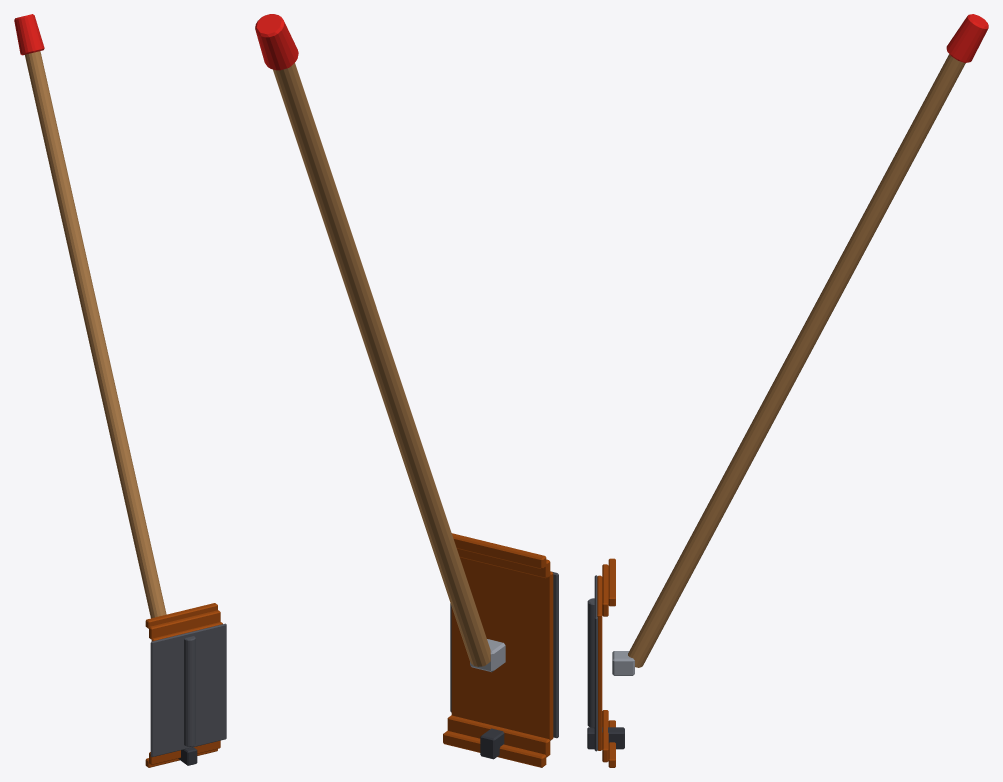
Rendered from Jointer.glb.
The picture shows the model from 3 angles, left to right: view 1: azimuth 30°, elevation 25°; view 2: azimuth 150°, elevation 25°; view 3: azimuth 270°, elevation 25°; orthographic projection. The views are drawn at different scales.
Parts seen in each view (by area): view 1: Blade, Body, Grip; view 2: Blade, Body, Grip; view 3: Body, Blade, Grip.
Part boxes in pixels (bbox=[...]): Blade: bbox=[145, 603, 226, 767]; Body: bbox=[25, 51, 166, 618]; Grip: bbox=[14, 14, 44, 55]; Blade: bbox=[443, 533, 558, 767]; Body: bbox=[273, 63, 505, 672]; Grip: bbox=[255, 14, 298, 70]; Body: bbox=[612, 54, 965, 675]; Blade: bbox=[587, 558, 624, 767]; Grip: bbox=[946, 14, 988, 62].
Size of the model in its own units: 0.162 by 1.29 by 0.6401.
